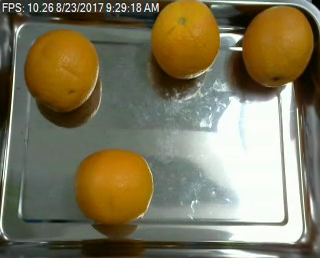Orange: (72, 147, 153, 228), (24, 29, 100, 111), (242, 5, 314, 87), (150, 1, 220, 78)
